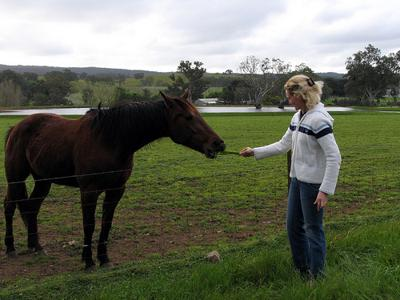person: (238, 71, 342, 282)
